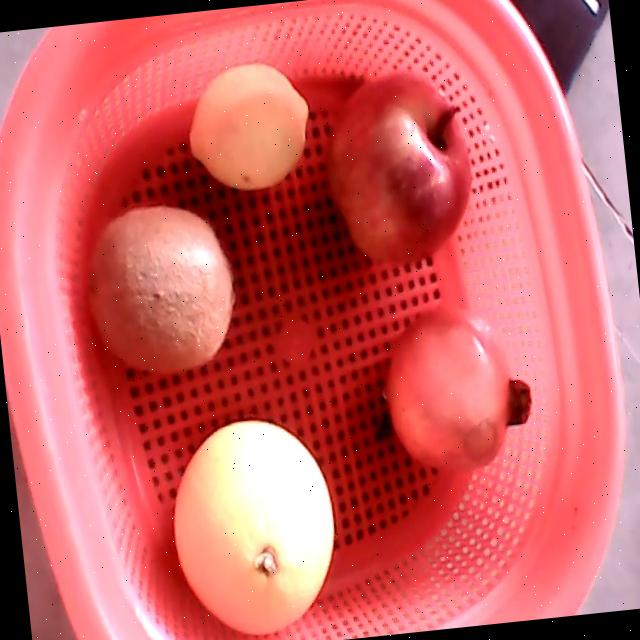apple: (325, 71, 472, 263)
kiwi: (82, 205, 233, 375)
lemon: (188, 61, 310, 189)
orange: (172, 419, 334, 637)
pomegranate: (383, 305, 532, 474)
